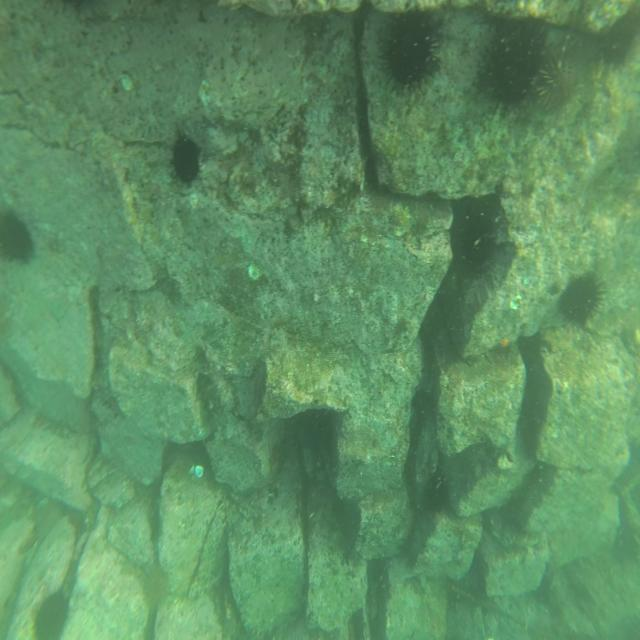echinus: (479, 16, 549, 105), (380, 6, 445, 97), (450, 190, 496, 282), (536, 52, 584, 124), (560, 263, 606, 332), (0, 207, 36, 268), (34, 589, 70, 640), (171, 131, 200, 188)
